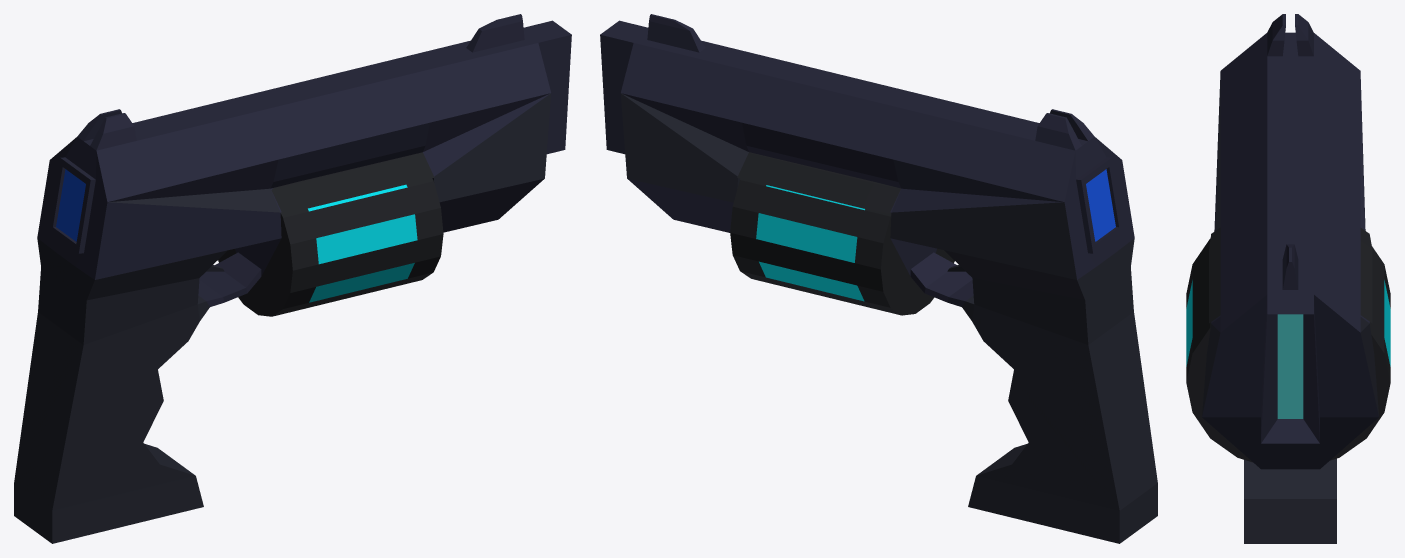
The model's file is Pistol.fbx.
The picture shows the model from 3 angles, left to right: view 1: azimuth 30°, elevation 25°; view 2: azimuth 150°, elevation 25°; view 3: azimuth 270°, elevation 25°; orthographic projection. The views are drawn at different scales.
Visible parts, largest first — view 1: Handle, Magazine, Barrel.001; view 2: Handle, Magazine, Barrel.001; view 3: Handle, Magazine, Barrel.001.
Part boxes in pixels (bbox=[...]): Handle: bbox=[14, 14, 571, 543]; Magazine: bbox=[218, 178, 443, 316]; Barrel.001: bbox=[271, 152, 434, 213]; Handle: bbox=[600, 14, 1157, 543]; Magazine: bbox=[730, 178, 954, 315]; Barrel.001: bbox=[737, 152, 900, 213]; Handle: bbox=[1202, 14, 1378, 543]; Magazine: bbox=[1186, 238, 1390, 462]; Barrel.001: bbox=[1209, 227, 1372, 323].
Size of the model in its own units: 530 by 379 by 146.
